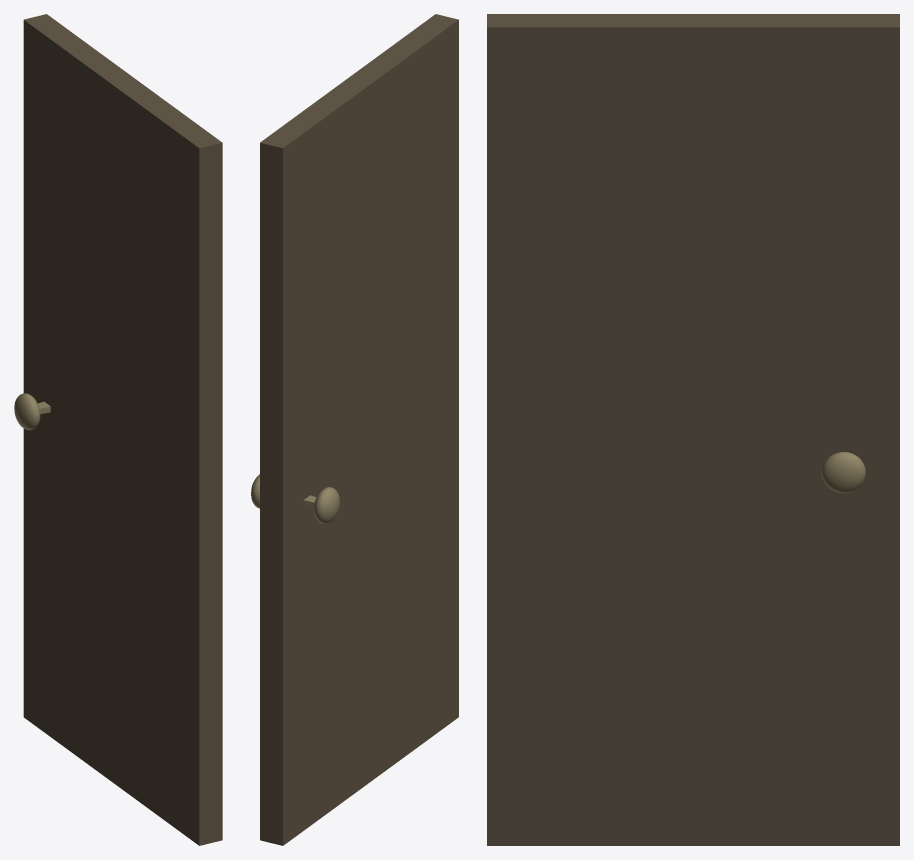
File: Door.fbx
The picture shows the model from 3 angles, left to right: view 1: azimuth 30°, elevation 25°; view 2: azimuth 150°, elevation 25°; view 3: azimuth 270°, elevation 25°; orthographic projection. The views are drawn at different scales.
Visible parts, largest first — view 1: Door; view 2: Door; view 3: Door.
Boxes of the visible parts, <box> form: Door: <box>14,14,222,845</box>; Door: <box>251,14,458,845</box>; Door: <box>487,14,899,845</box>.
Bounding box in the file's own units: 0.2437 × 2 × 0.9139.
